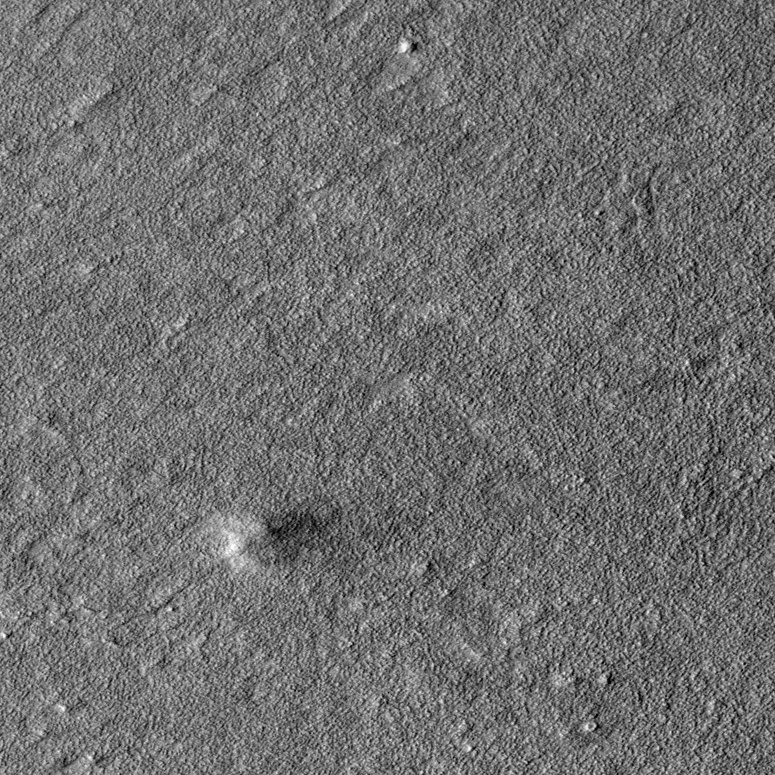dust_devil: (209, 503, 331, 575)
